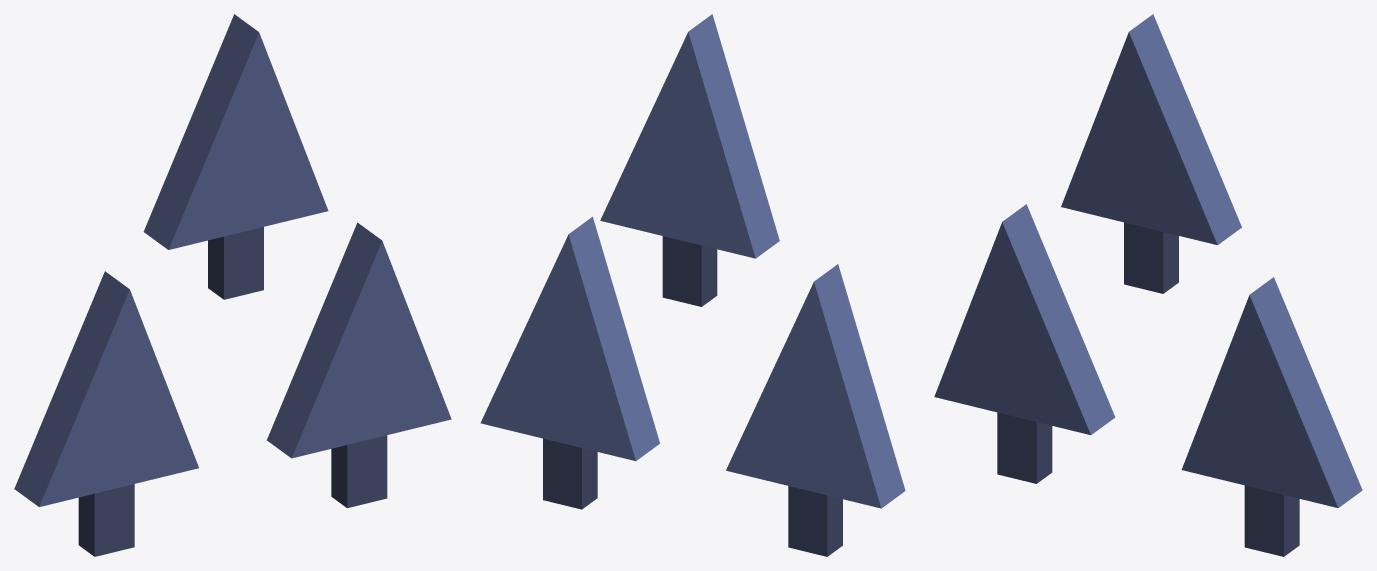
File: mithrilArrowheads.glb
3 views of the same model, side by side, from view 1: azimuth 30°, elevation 25°; view 2: azimuth 150°, elevation 25°; view 3: azimuth 330°, elevation 25° (orthographic). The views are drawn at different scales.
Visible parts, largest first — view 1: mithrilArrowheads; view 2: mithrilArrowheads; view 3: mithrilArrowheads.
Boxes of the visible parts, x1,y1,x2,y2 form: mithrilArrowheads: [14, 14, 451, 556]; mithrilArrowheads: [480, 14, 905, 556]; mithrilArrowheads: [934, 14, 1362, 556].
Bounding box in the file's own units: 0.8428 × 1 × 0.1258.
